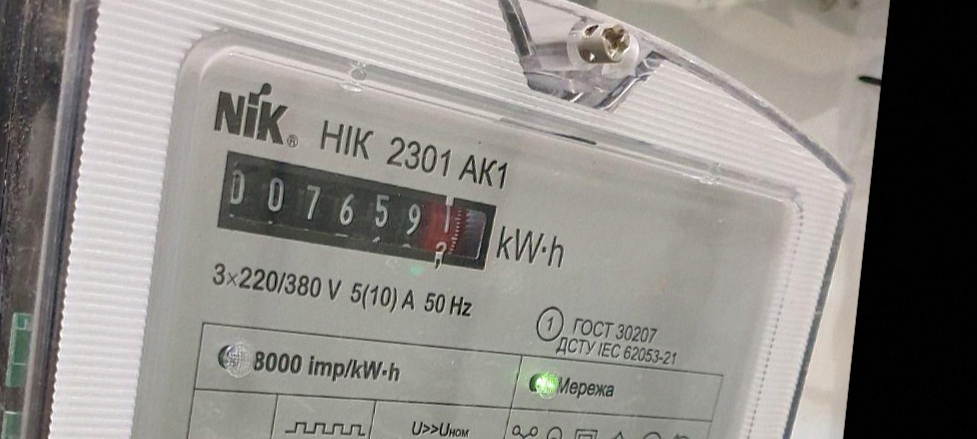0: (223, 165, 251, 208), (262, 172, 290, 215)
1: (437, 203, 458, 237)
5: (370, 190, 394, 230)
6: (335, 188, 360, 229)
7: (300, 181, 323, 223)
9: (403, 200, 424, 239)
screen: (205, 140, 509, 290)
